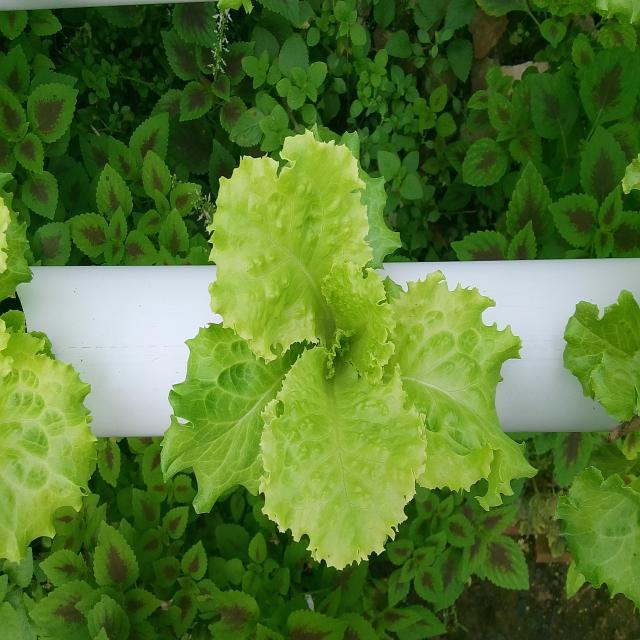Baby: (162, 131, 536, 568), (0, 311, 97, 564), (0, 173, 31, 300)
